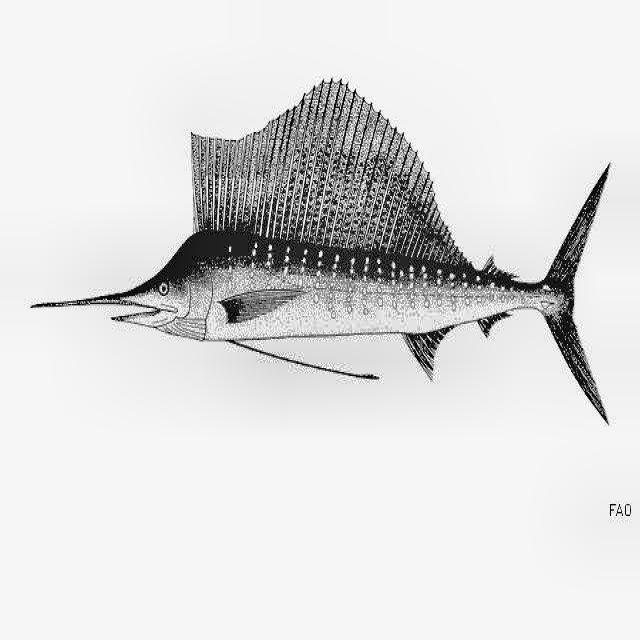fish: (28, 75, 610, 428)
